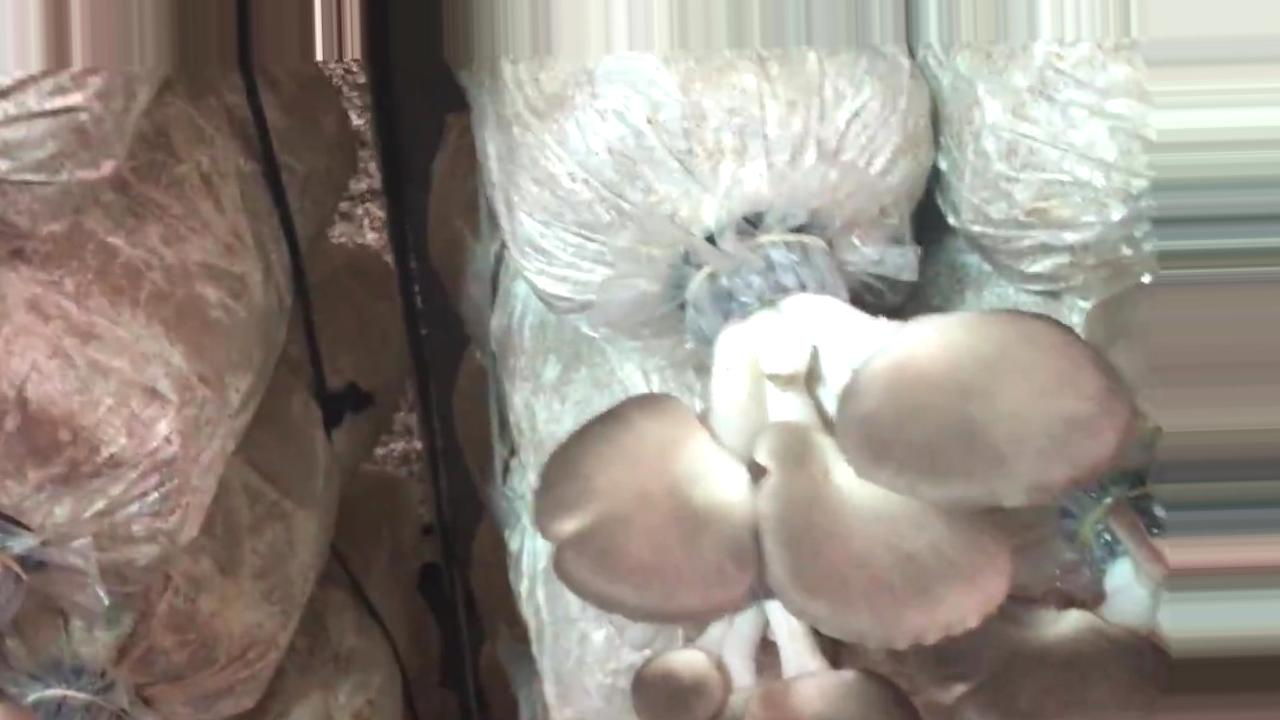nam: (539, 239, 1128, 650), (632, 602, 914, 720)
